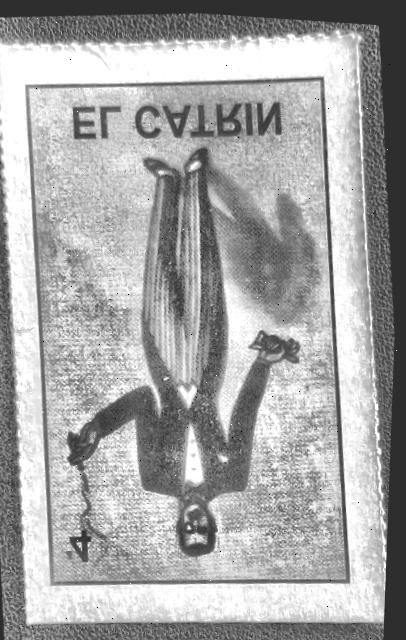El Catrin: (0, 27, 388, 622)
